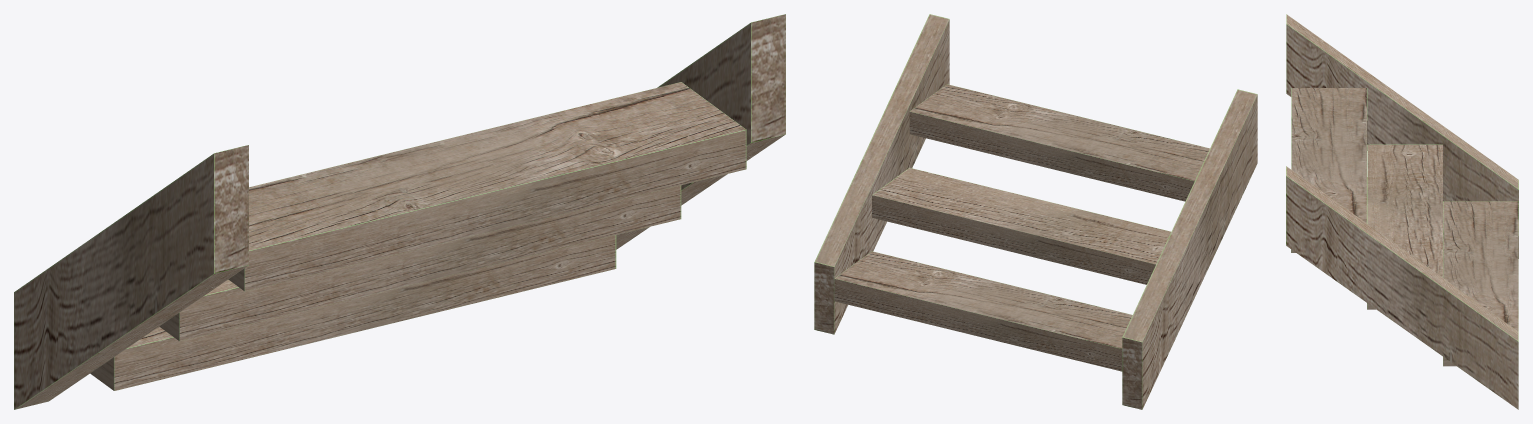
The model's file is Stairs3.FBX.
3 views of the same model, side by side, from view 1: azimuth 30°, elevation 25°; view 2: azimuth 150°, elevation 25°; view 3: azimuth 270°, elevation 25° (orthographic). The views are drawn at different scales.
Parts seen in each view (by area): view 1: Stairs_Small; view 2: Stairs_Small; view 3: Stairs_Small.
Boxes of the visible parts, x1,y1,x2,y2 form: Stairs_Small: (14, 14, 785, 409); Stairs_Small: (814, 14, 1257, 409); Stairs_Small: (1286, 14, 1518, 409).
Size of the model in its own units: 208 by 140 by 126.
1 material, 1 textured.
